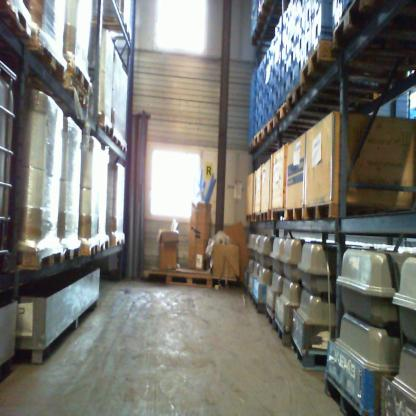pallet: (301, 40, 416, 91), (332, 0, 416, 51), (287, 83, 382, 113), (324, 375, 383, 416), (26, 29, 69, 80), (303, 201, 415, 219), (0, 0, 32, 40), (291, 335, 326, 371), (274, 102, 329, 124), (17, 246, 64, 271), (262, 116, 312, 138), (258, 0, 290, 25), (253, 128, 297, 146), (69, 60, 89, 94), (166, 274, 213, 288), (102, 19, 131, 41), (251, 24, 278, 47), (248, 138, 282, 154), (275, 318, 291, 347), (63, 243, 80, 262), (81, 240, 98, 256), (285, 206, 304, 220), (265, 306, 275, 329), (110, 233, 126, 247), (99, 125, 113, 141), (259, 207, 272, 222), (253, 297, 265, 313), (98, 237, 110, 252), (112, 135, 121, 147), (119, 144, 127, 154), (248, 290, 254, 301), (243, 284, 249, 294), (246, 215, 254, 222)
small_load_carrier: (311, 3, 333, 51), (303, 19, 312, 67), (312, 0, 333, 18), (303, 0, 312, 31), (288, 39, 296, 71), (288, 20, 296, 52), (295, 31, 303, 60), (287, 61, 295, 89), (281, 35, 289, 63), (295, 52, 303, 79), (295, 13, 303, 38), (289, 0, 296, 27), (281, 54, 288, 80), (280, 71, 287, 97), (274, 64, 281, 89), (274, 81, 280, 107), (282, 20, 290, 38), (264, 84, 270, 107), (296, 0, 303, 19), (274, 55, 281, 70), (269, 93, 274, 113), (259, 94, 264, 114), (259, 80, 264, 99), (264, 100, 269, 119), (269, 79, 274, 98), (259, 108, 264, 126), (255, 101, 260, 118), (255, 87, 260, 104), (255, 114, 259, 131), (303, 0, 310, 9)
